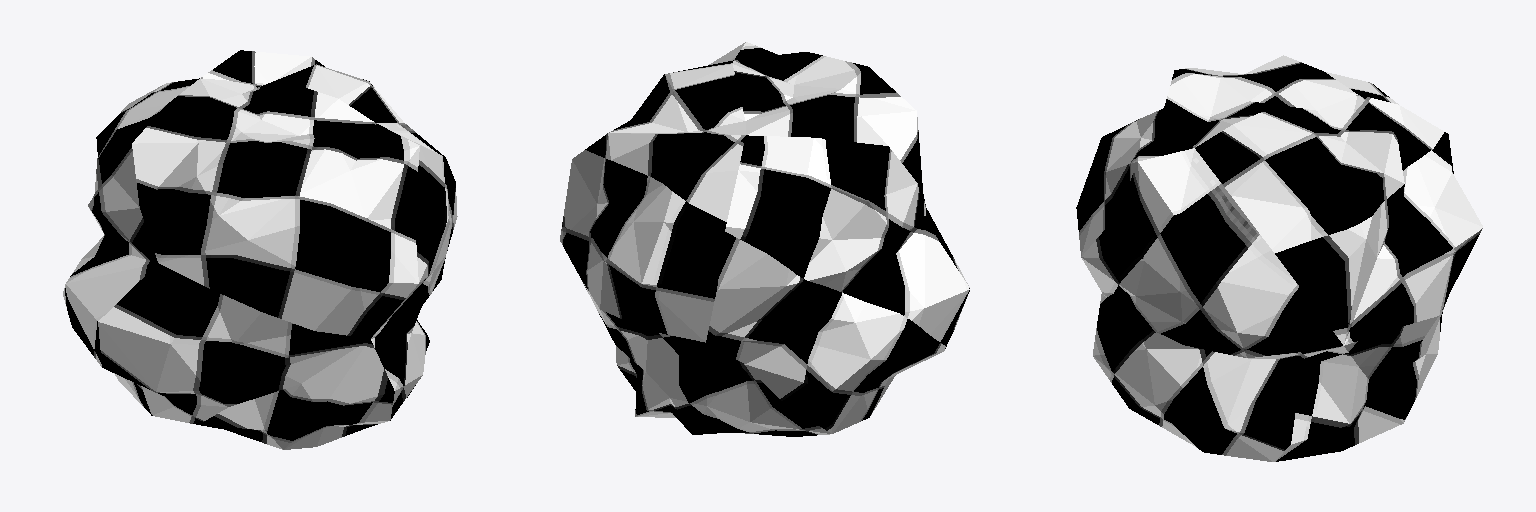
The picture shows the model from 3 angles: view 1: azimuth 30°, elevation 25°; view 2: azimuth 150°, elevation 25°; view 3: azimuth 270°, elevation 25°; orthographic projection.
Visible parts, largest first — view 1: Cube.001; view 2: Cube.001; view 3: Cube.001.
Part boxes in pixels (x1,y1,x2,y2): Cube.001: (63, 50, 457, 449); Cube.001: (560, 42, 969, 436); Cube.001: (1076, 55, 1482, 461).
Size of the model in its own units: 0.9244 by 0.8177 by 0.9043.
Materials: 1 (1 with a texture image).